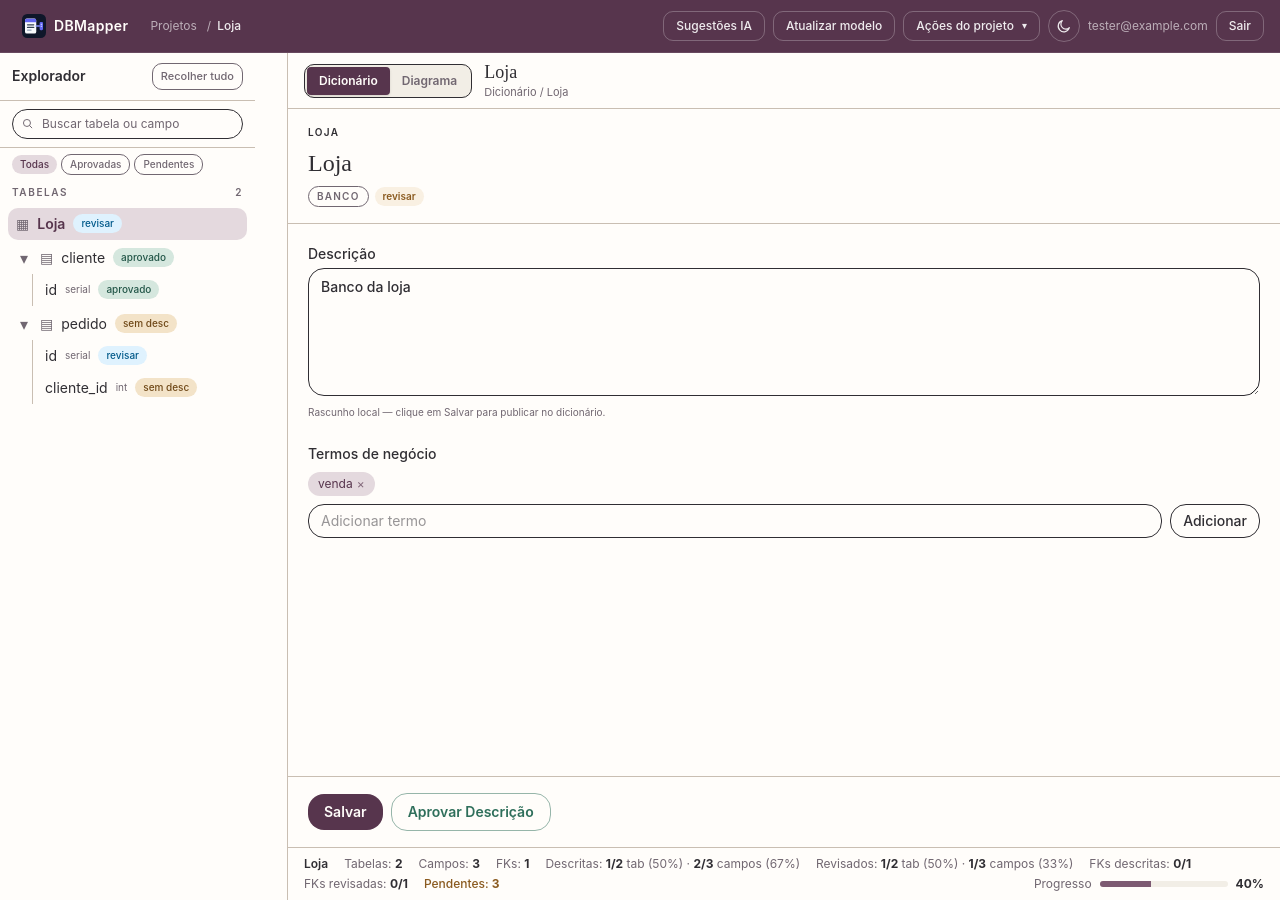
WorkspacePage › renomeia o projeto aberto pelo nome no header
Step 1. Click the button with test id "workspace-project-name" → (501, 72), box x1=484 y1=61 x2=517 y2=84
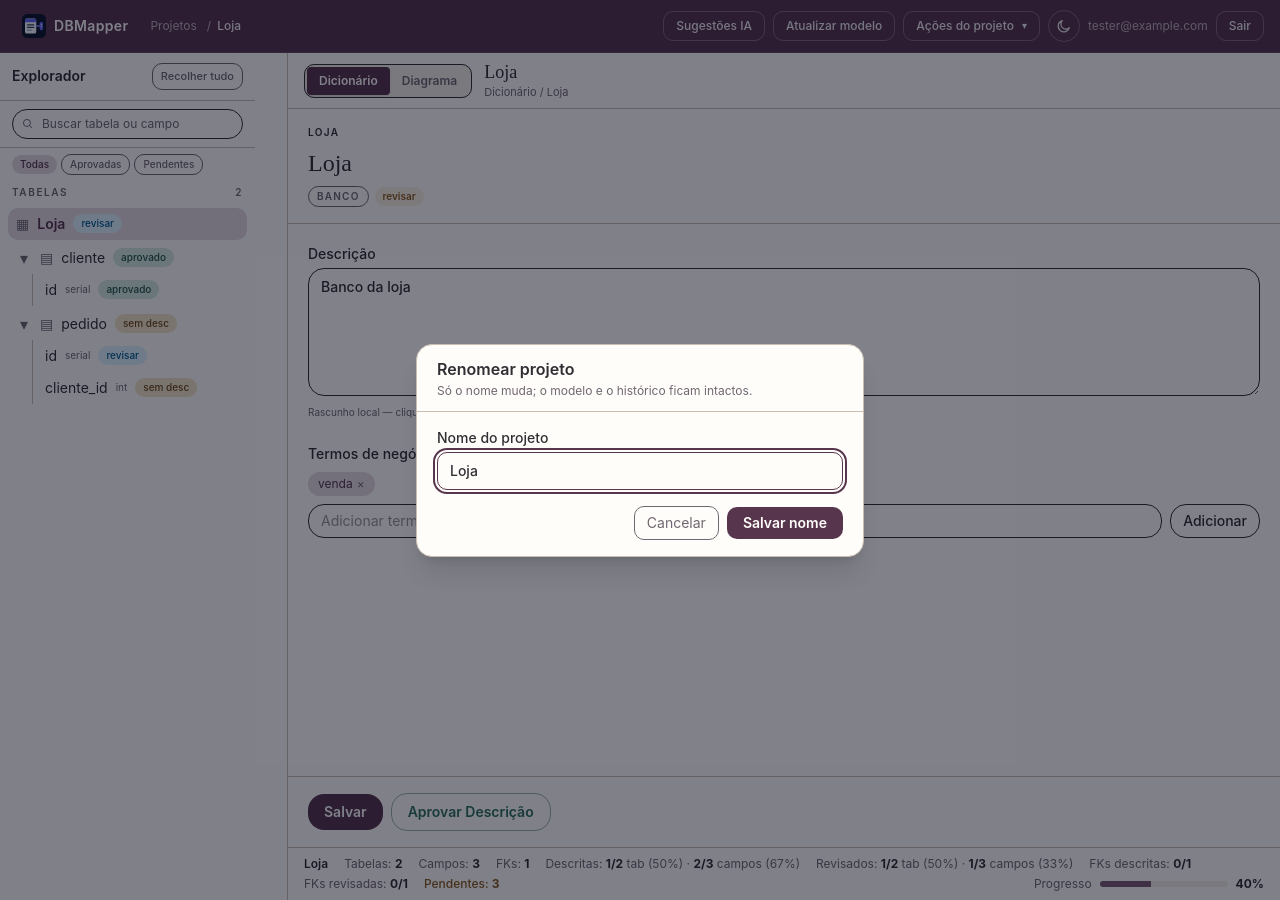
Step 2. Replace the text in the field labelled "Nome do projeto" with "Banco Central" → (640, 470), box x1=437 y1=452 x2=843 y2=490
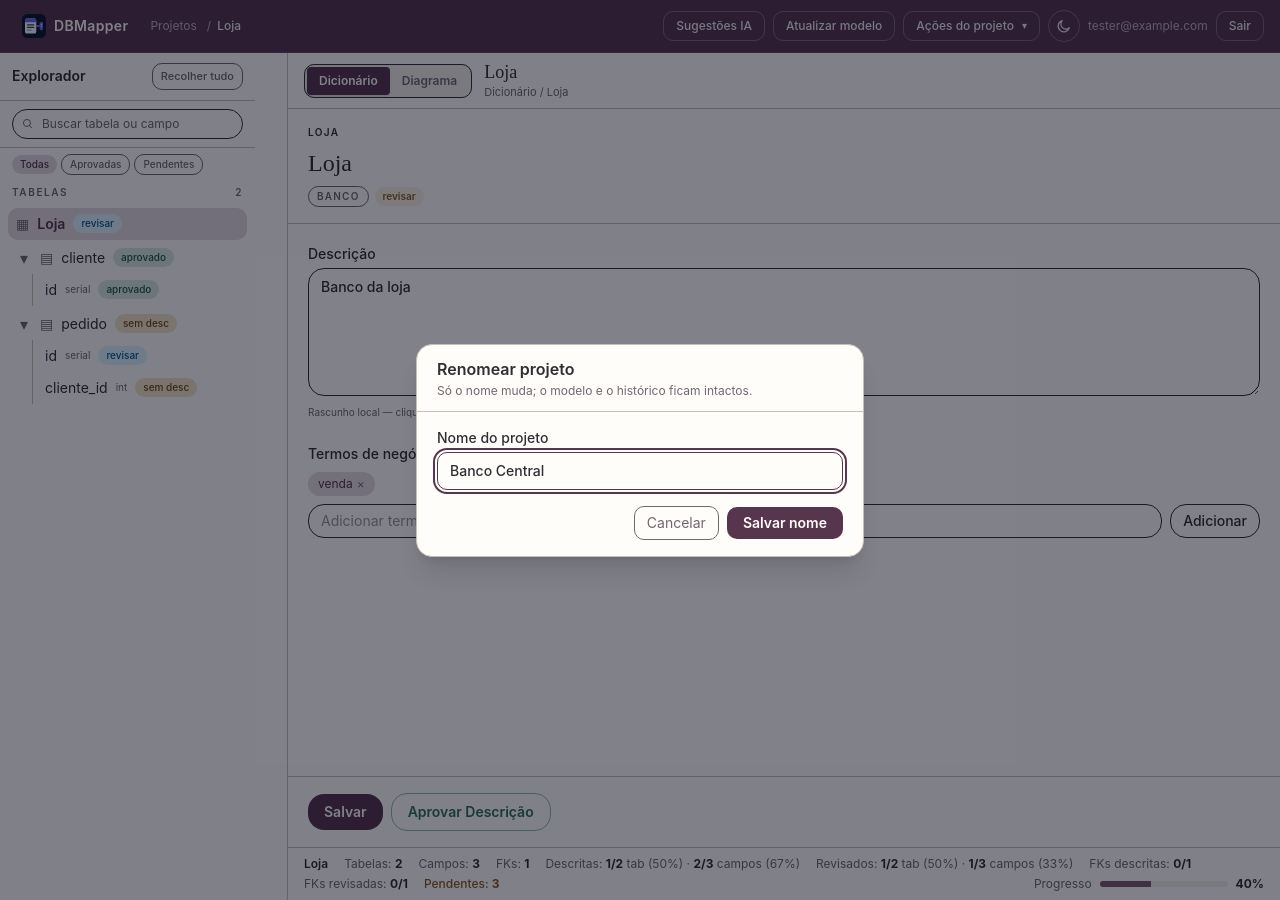
Step 3. Click the button "Salvar nome" → (785, 522), box x1=727 y1=506 x2=843 y2=538
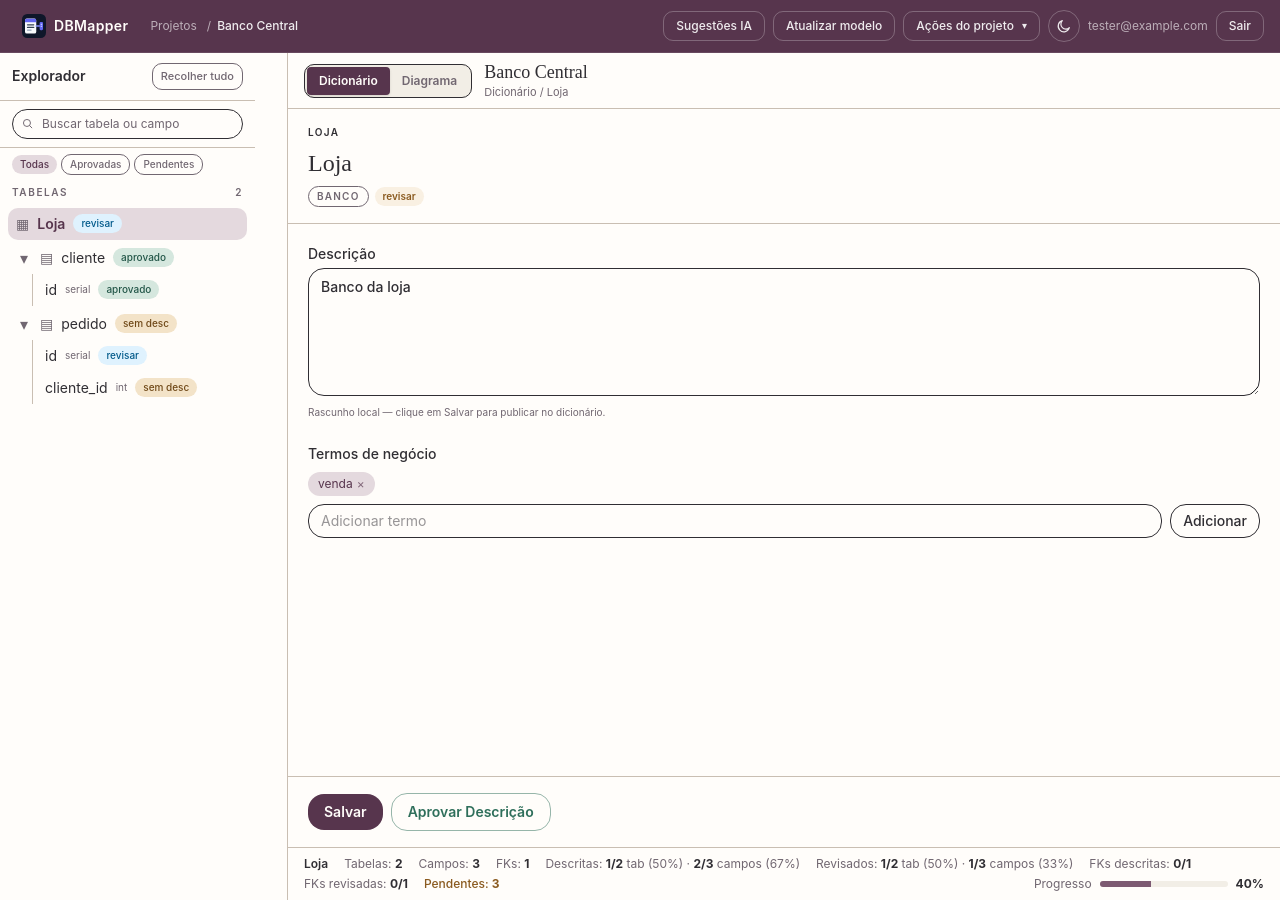
Expected: the text with test id "workspace-breadcrumb-project" reads "Banco Central", x1=217 y1=18 x2=298 y2=33
